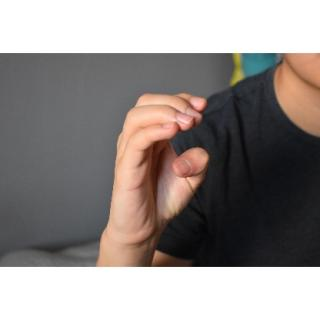JEEM: (97, 90, 216, 248)
